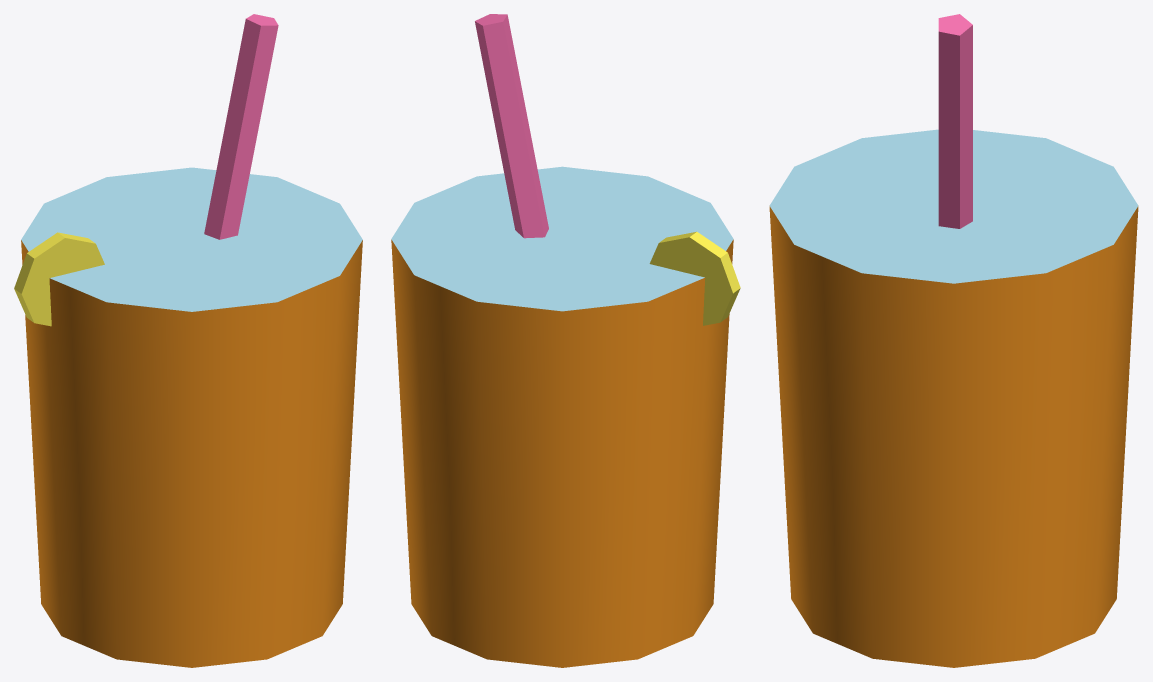
Rendered from Juice.fbx.
The picture shows the model from 3 angles, left to right: view 1: azimuth 30°, elevation 25°; view 2: azimuth 150°, elevation 25°; view 3: azimuth 270°, elevation 25°; orthographic projection. The views are drawn at different scales.
Parts seen in each view (by area): view 1: Juice; view 2: Juice; view 3: Juice.
Boxes of the visible parts, bbox=[...] form: Juice: bbox=[14, 14, 362, 667]; Juice: bbox=[391, 14, 740, 667]; Juice: bbox=[769, 14, 1138, 667].
Bounding box in the file's own units: 0.74 × 1.25 × 0.68.
1 material, 1 textured.
